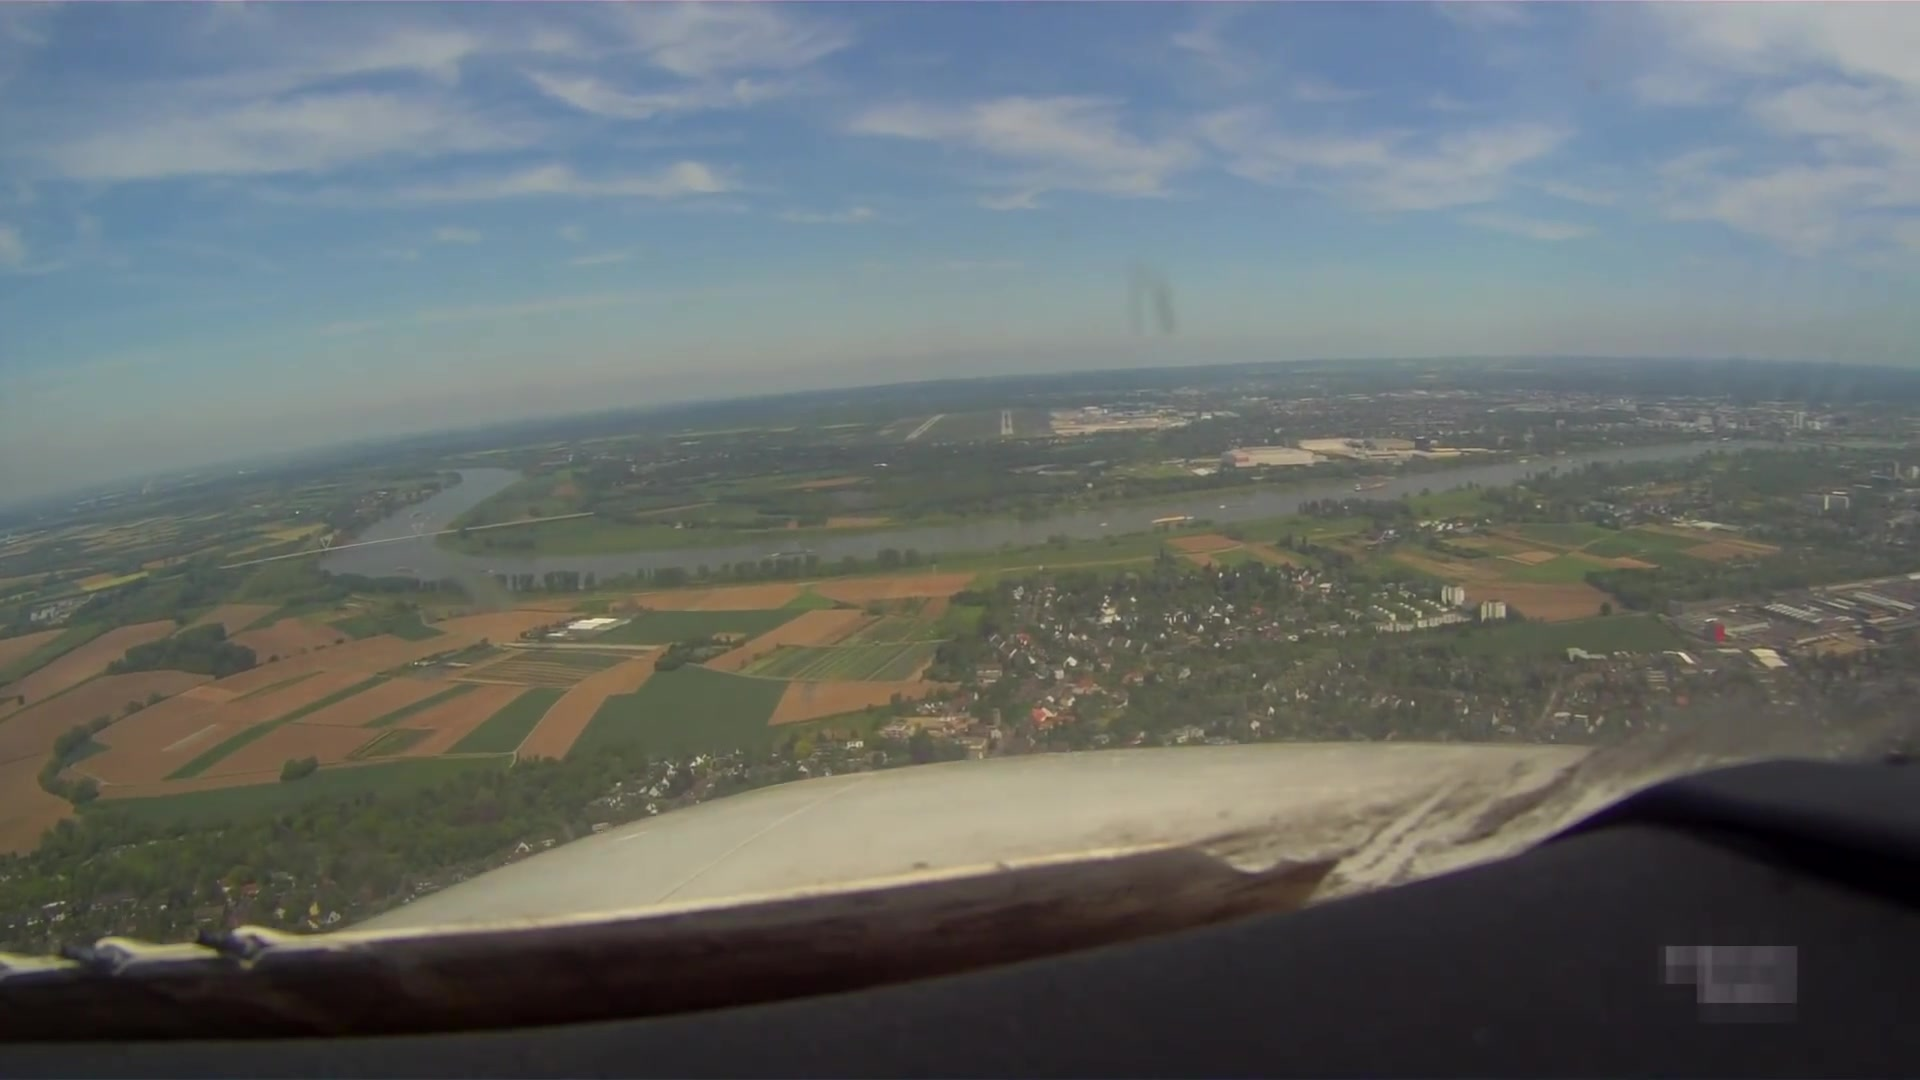runway: (905, 413, 943, 440), (1000, 410, 1015, 436)
